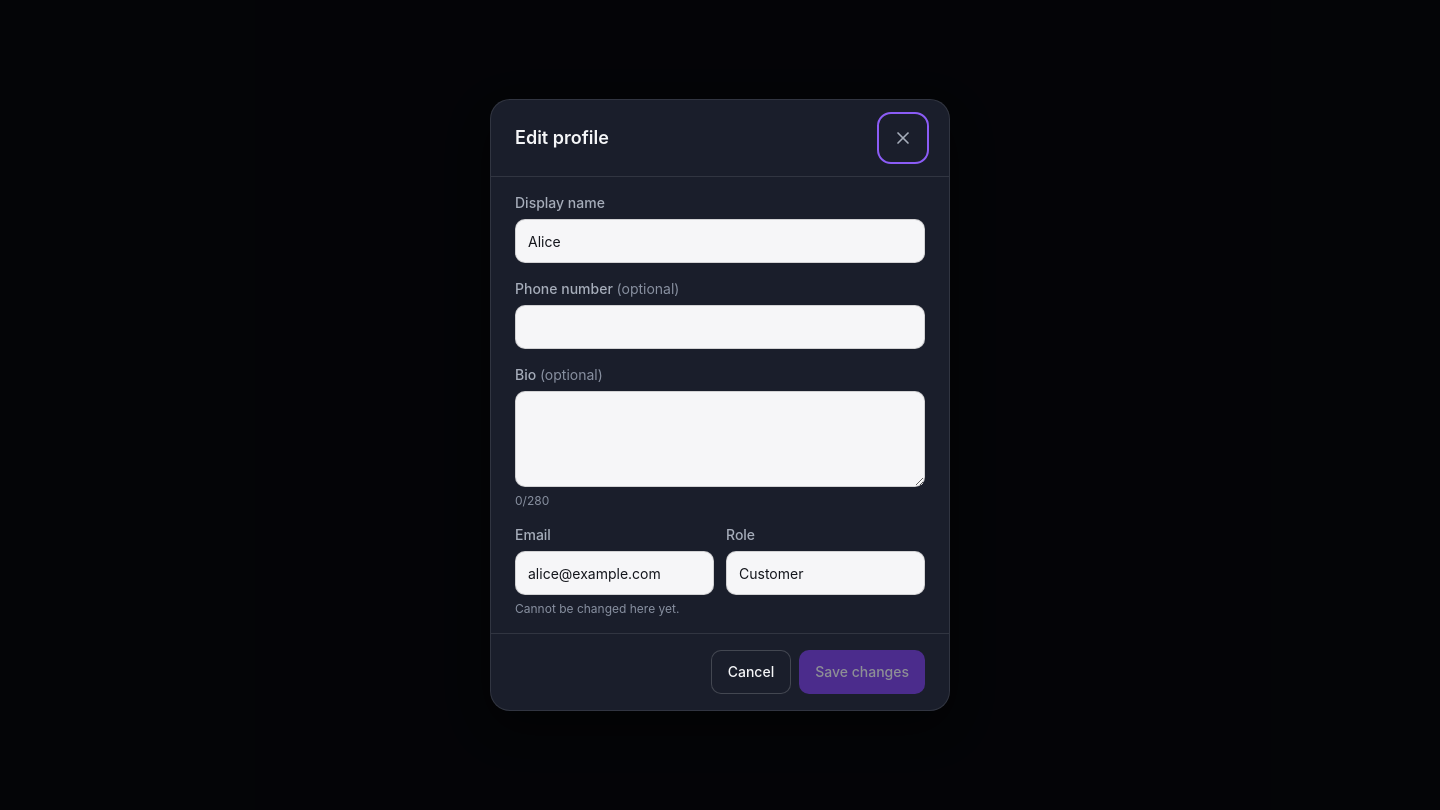
Test: EditProfileModal › shows a validation error and does not submit for a too-short display name
Replace the text in the field labelled "Display name" with "A": (720, 241) [515, 219, 925, 263]
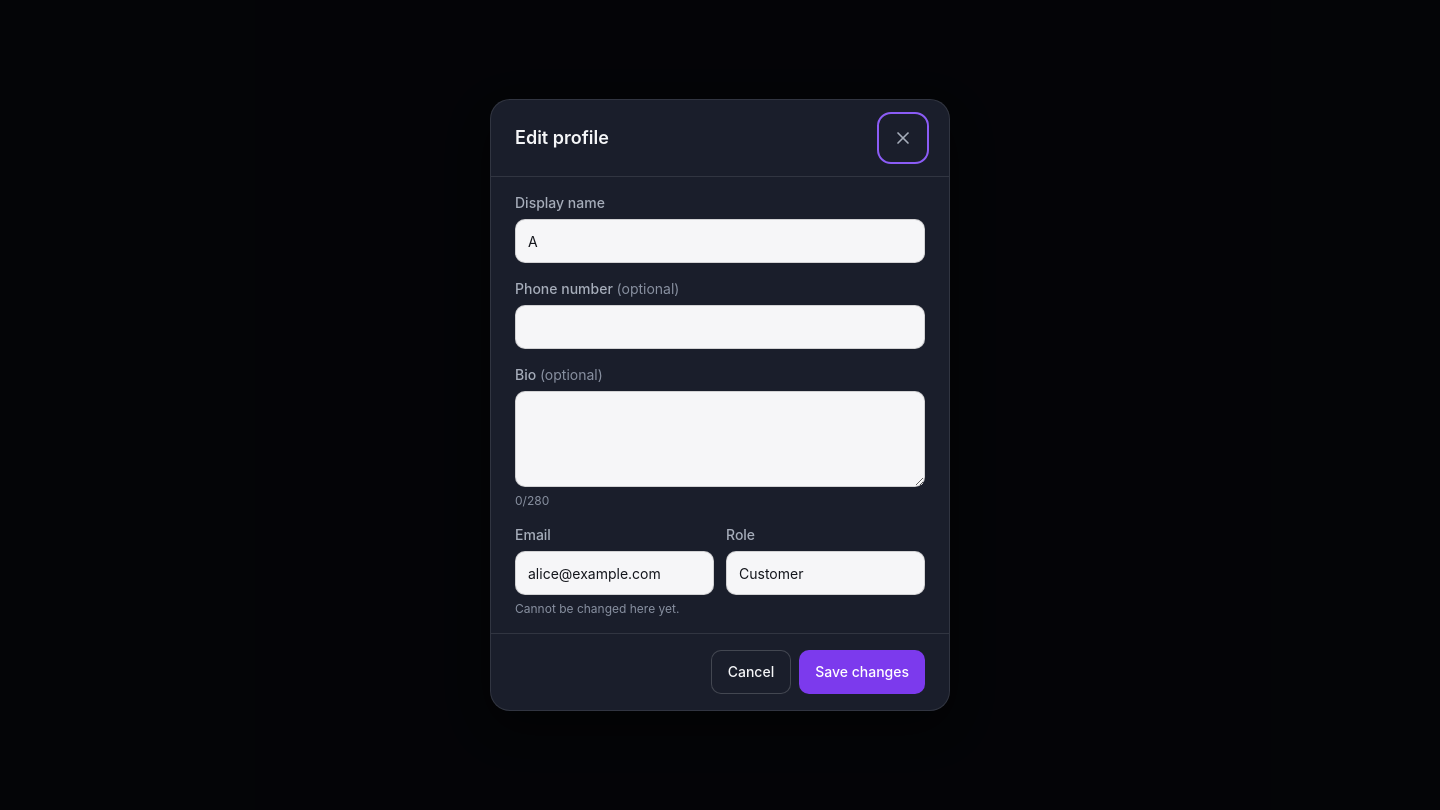
Click the button "Save changes": click(862, 672) [799, 650, 925, 694]
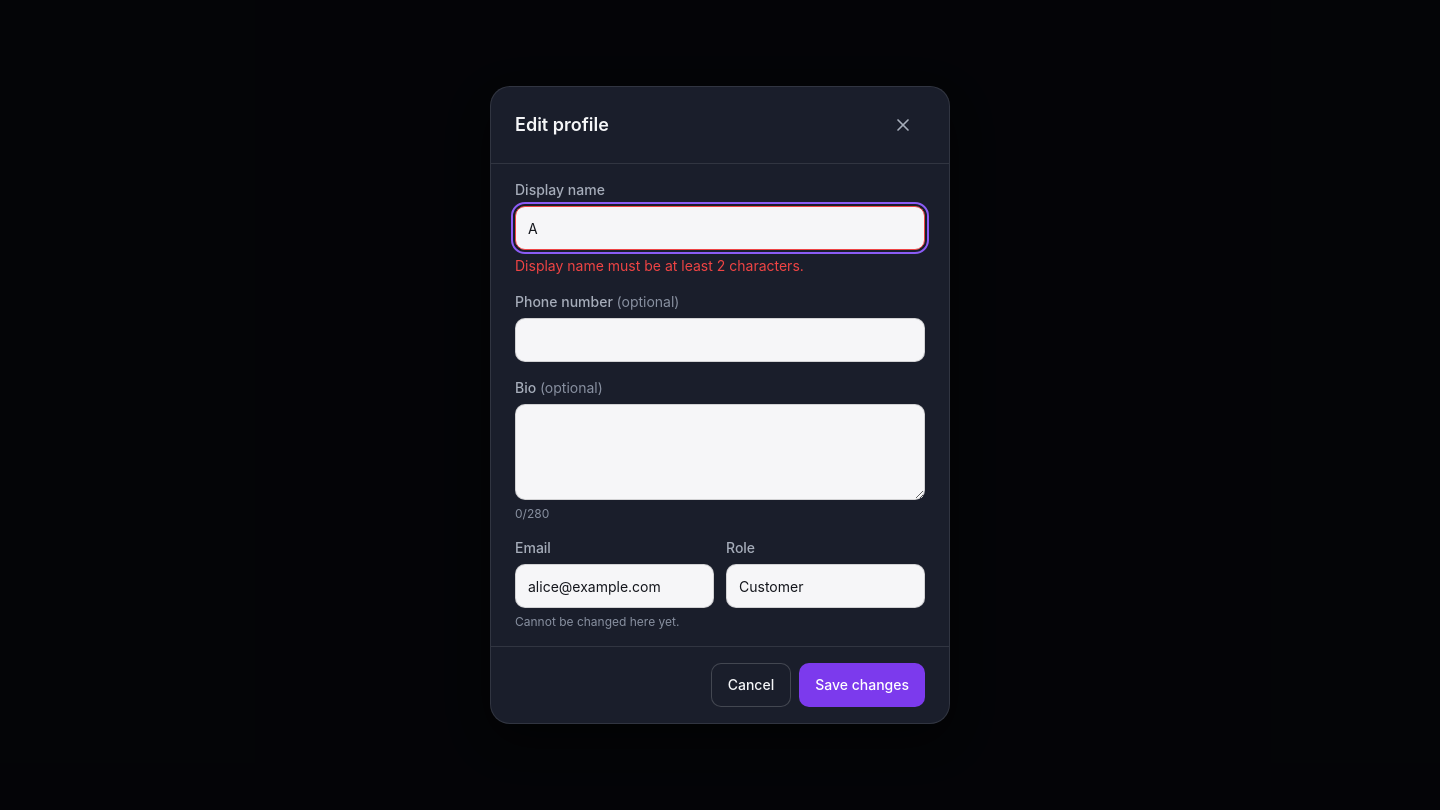
Check: the text "Display name must be at least 2 characters." is shown, box [515, 257, 804, 274]
